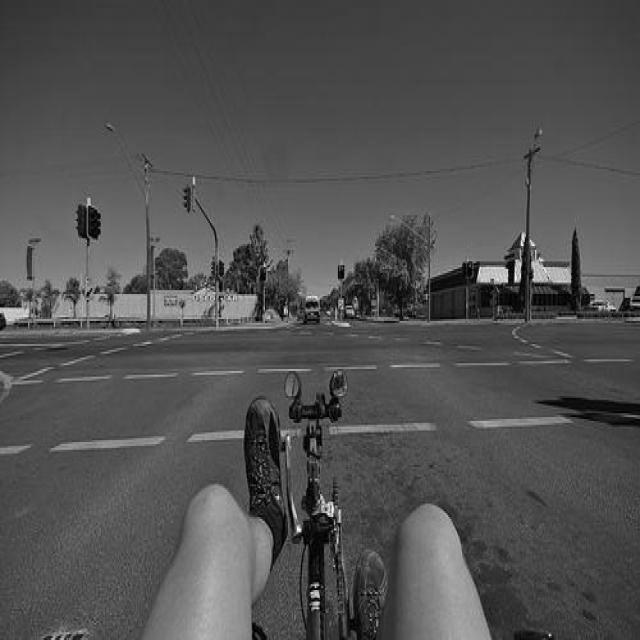vehicle: (303, 296, 321, 326), (344, 305, 354, 319)
